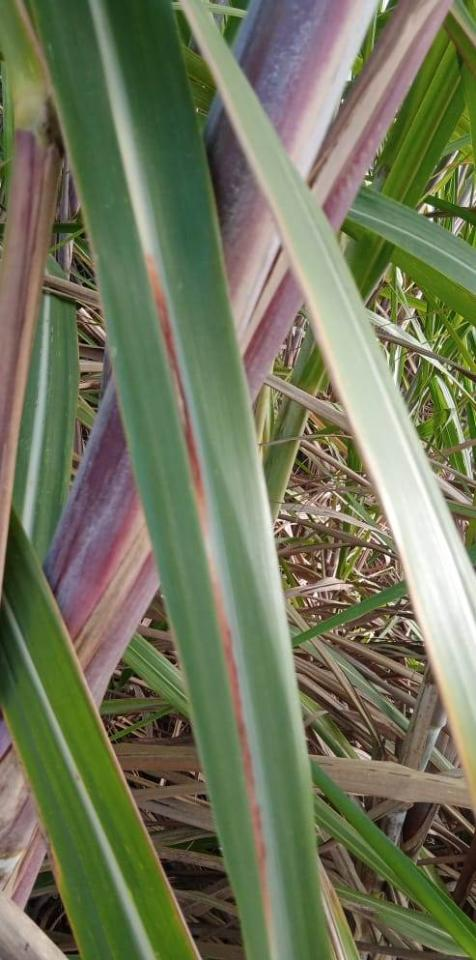RedRot: (207, 560, 275, 931), (141, 247, 214, 541)
